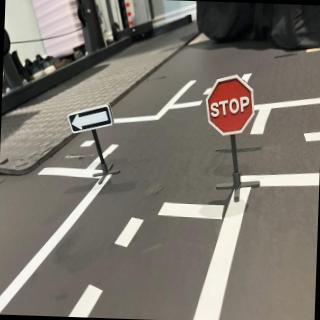sign_oneway_left: (67, 100, 117, 137)
sign_stop: (205, 74, 258, 139)
